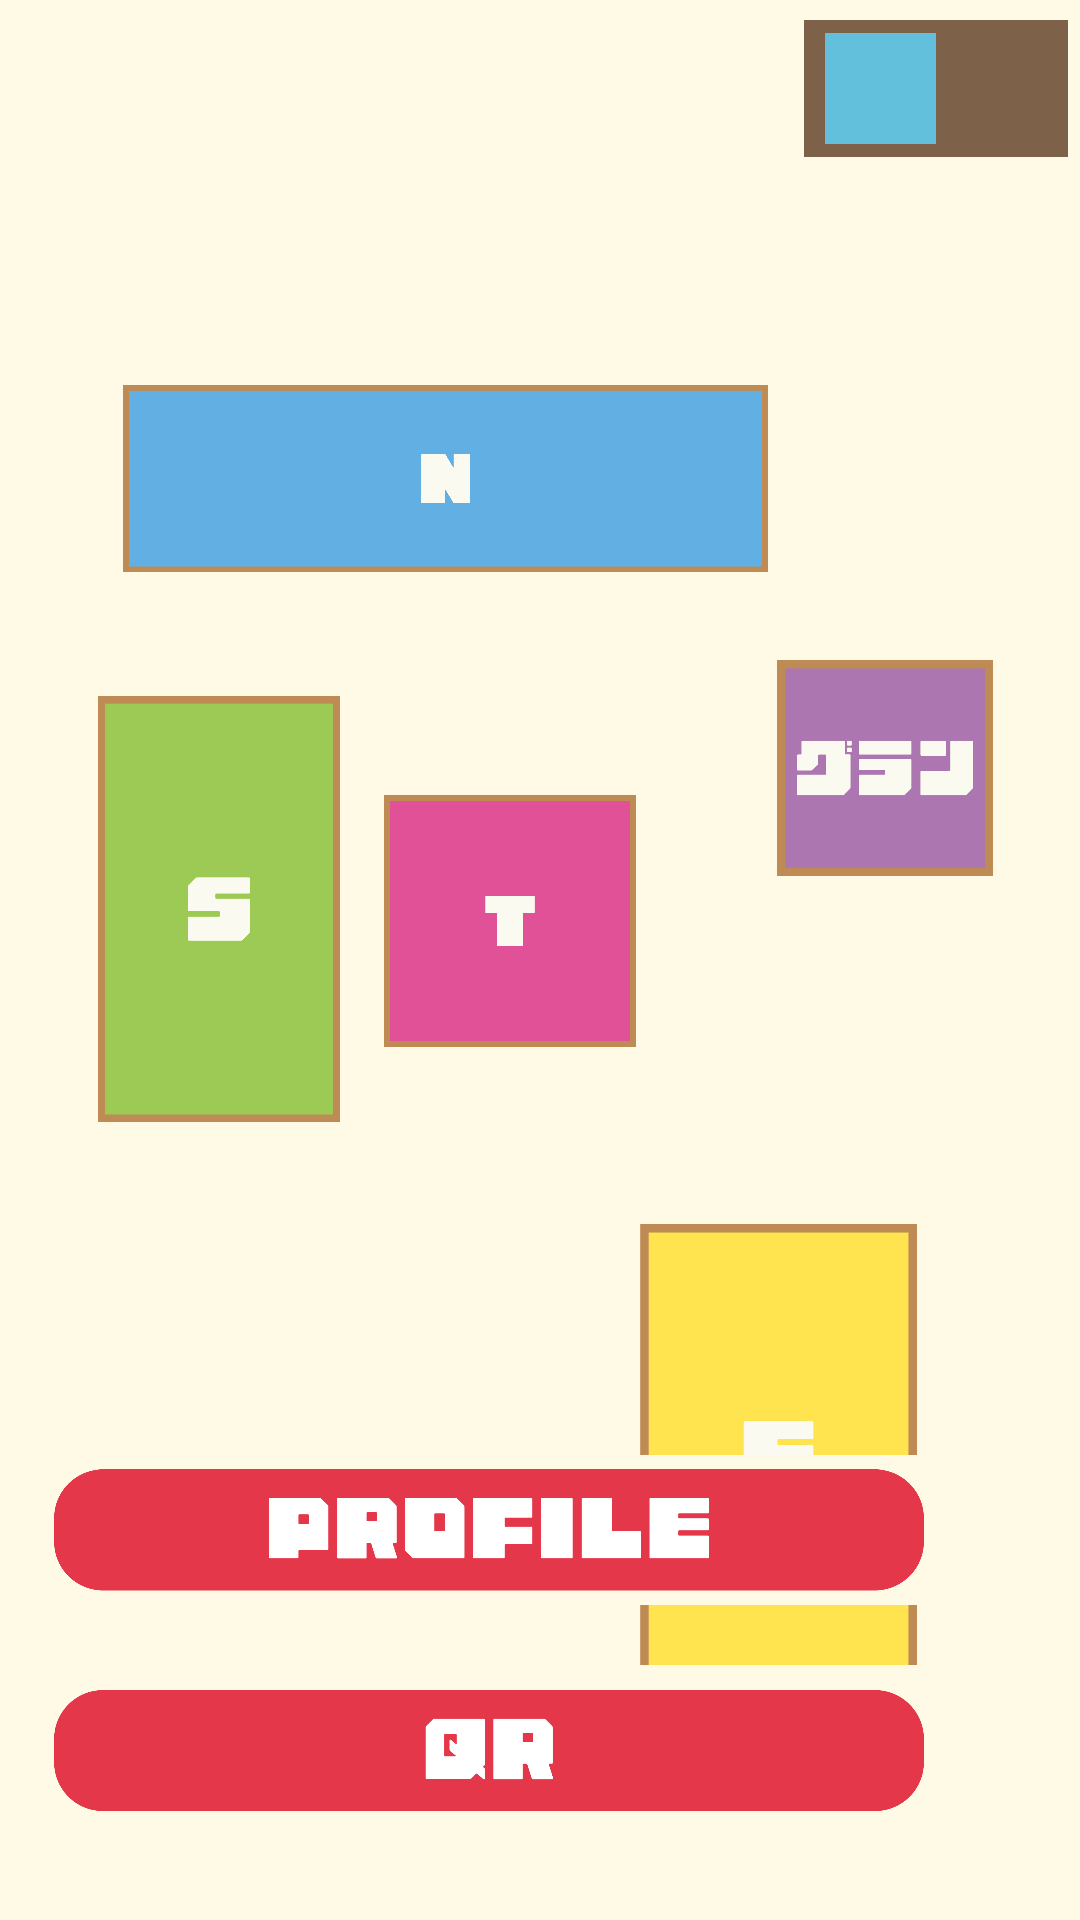

Screen size 1080 x 1920. Icon name, then its box in pixels as (x1, y1, x2, y2):
このボタンはタワーのボタンです: (384, 795, 636, 1047)
